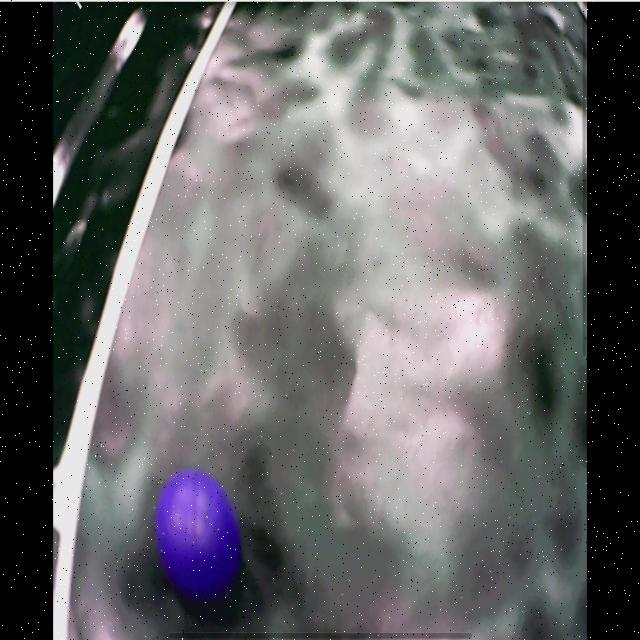ball: (157, 470, 240, 604)
